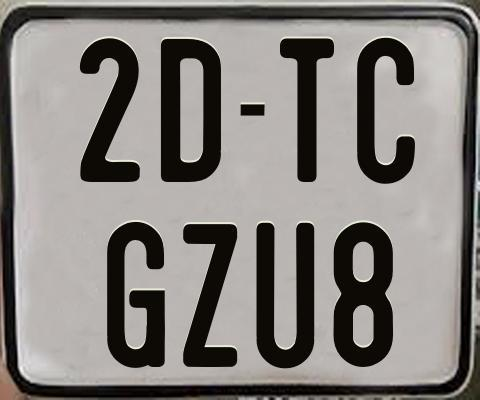2: (78, 37, 144, 184)
8: (331, 222, 391, 373)
C: (357, 35, 418, 186)
D: (160, 37, 220, 181)
G: (105, 219, 164, 368)
T: (279, 38, 336, 186)
U: (253, 222, 313, 370)
Z: (183, 222, 240, 365)
